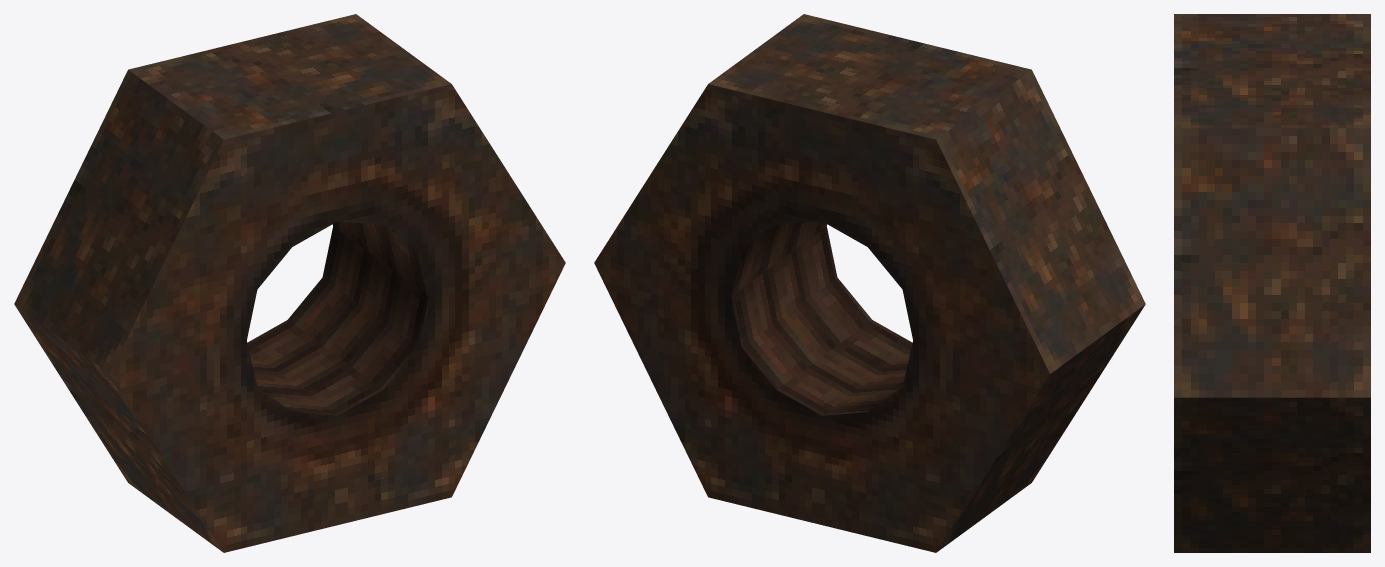
File: hexagon_nut_mx_2_1.glb
3 views of the same model, side by side, from view 1: azimuth 30°, elevation 25°; view 2: azimuth 150°, elevation 25°; view 3: azimuth 270°, elevation 25° (orthographic). The views are drawn at different scales.
Parts seen in each view (by area): view 1: hexagon_nut_mx_2_1; view 2: hexagon_nut_mx_2_1; view 3: hexagon_nut_mx_2_1.
Part boxes in pixels (box(x1,y1,x2,y2)): hexagon_nut_mx_2_1: box(14, 14, 565, 552); hexagon_nut_mx_2_1: box(594, 14, 1145, 552); hexagon_nut_mx_2_1: box(1174, 14, 1370, 552).
Bounding box in the file's own units: 0.11 × 0.0953 × 0.04.
1 material, 1 textured.
